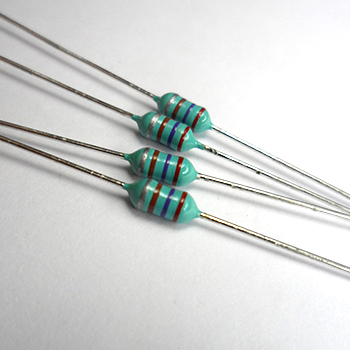inductor: (128, 178, 198, 224), (129, 146, 197, 187), (138, 110, 197, 153), (157, 92, 211, 134)
